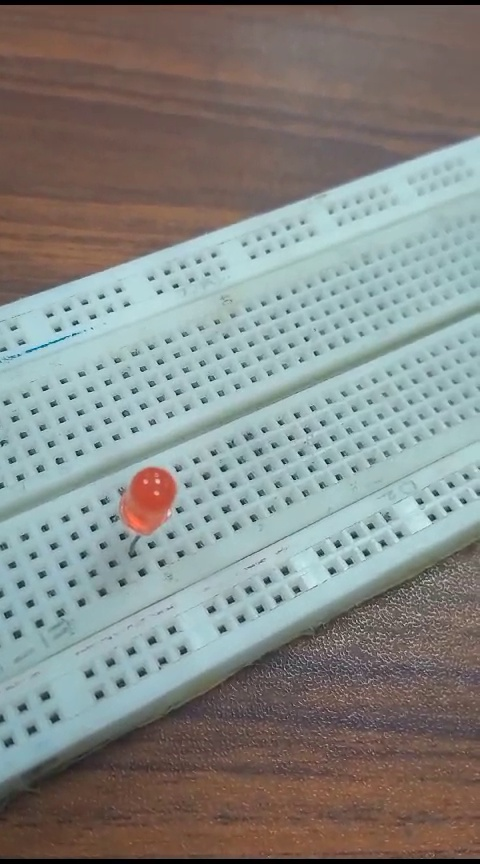LED: (112, 459, 190, 556)
